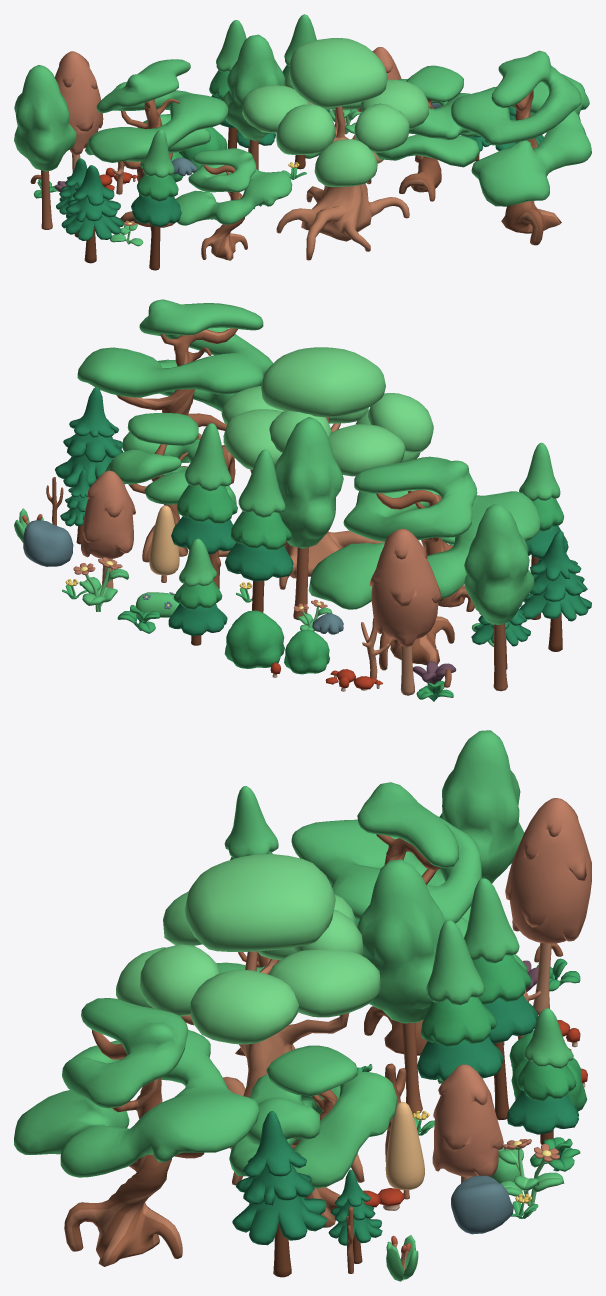
The model's file is customforestthird.gltf.
3 views of the same model, one above another, from view 1: azimuth 30°, elevation 25°; view 2: azimuth 150°, elevation 25°; view 3: azimuth 270°, elevation 25° (orthographic). The views are drawn at different scales.
Parts seen in each view (by area): view 1: TreeGiant_B_01_LOD1_Mat_Nature_0.001, TreeGiant_A_02_LOD1_Mat_Nature_0.005, TreeGiant_A_02_LOD1_Mat_Nature_0.003, TreeGiant_A_02_LOD1_Mat_Nature_0.004, TreeGiant_A_01_LOD1_Mat_Nature_0.001, Tree_E_01_LOD1_Mat_Nature_0.001, Conifer_05_LOD1_Mat_Nature_0.001, Tree_E_01_LOD1_Mat_Nature_0.002, Pine_04_LOD1_Mat_Nature_0.001, Tree_F_01_LOD1_Mat_Nature_0.001, Conifer_04_LOD1_Mat_Nature_0.001, Conifer_04_LOD1_Mat_Nature_0.002 (+5 smaller); view 2: TreeGiant_B_01_LOD1_Mat_Nature_0.001, TreeGiant_A_02_LOD1_Mat_Nature_0.003, TreeGiant_A_02_LOD1_Mat_Nature_0.005, Tree_E_01_LOD1_Mat_Nature_0.002, Tree_E_01_LOD1_Mat_Nature_0.001, Tree_F_01_LOD1_Mat_Nature_0.001, TreeGiant_A_01_LOD1_Mat_Nature_0.001, Conifer_04_LOD1_Mat_Nature_0.001, Conifer_04_LOD1_Mat_Nature_0.002, Pine_04_LOD1_Mat_Nature_0.001, Tree_F_03_LOD1_Mat_Nature_0.001, Conifer_03_LOD1_Mat_Nature_0.001 (+16 smaller); view 3: TreeGiant_B_01_LOD1_Mat_Nature_0.001, TreeGiant_A_02_LOD1_Mat_Nature_0.005, TreeGiant_A_02_LOD1_Mat_Nature_0.003, TreeGiant_A_01_LOD1_Mat_Nature_0.001, Tree_E_01_LOD1_Mat_Nature_0.002, Tree_F_01_LOD1_Mat_Nature_0.001, Conifer_04_LOD1_Mat_Nature_0.002, Tree_E_01_LOD1_Mat_Nature_0.001, Pine_05_LOD1_Mat_Nature_0.001, Conifer_04_LOD1_Mat_Nature_0.001, Tree_F_03_LOD1_Mat_Nature_0.001, Conifer_03_LOD1_Mat_Nature_0.001 (+8 smaller).
Boxes of the visible parts, x1,y1,x2,y2 form: TreeGiant_B_01_LOD1_Mat_Nature_0.001: (242,38,429,260); TreeGiant_A_02_LOD1_Mat_Nature_0.005: (451,50,591,245); TreeGiant_A_02_LOD1_Mat_Nature_0.003: (85,59,228,231); TreeGiant_A_02_LOD1_Mat_Nature_0.004: (175,148,292,260); TreeGiant_A_01_LOD1_Mat_Nature_0.001: (374,65,479,201); Tree_E_01_LOD1_Mat_Nature_0.001: (14,65,76,229); Conifer_05_LOD1_Mat_Nature_0.001: (131,129,181,270); Tree_E_01_LOD1_Mat_Nature_0.002: (221,34,285,169); Pine_04_LOD1_Mat_Nature_0.001: (61,165,124,263); Tree_F_01_LOD1_Mat_Nature_0.001: (54,51,103,172); Conifer_04_LOD1_Mat_Nature_0.001: (209,20,246,148); Conifer_04_LOD1_Mat_Nature_0.002: (282,14,329,169); TreeGiant_B_01_LOD1_Mat_Nature_0.001: (218,347,433,589); TreeGiant_A_02_LOD1_Mat_Nature_0.003: (308,456,540,670); TreeGiant_A_02_LOD1_Mat_Nature_0.005: (77,299,272,483); Tree_E_01_LOD1_Mat_Nature_0.002: (274,417,343,620); Tree_E_01_LOD1_Mat_Nature_0.001: (464,504,534,691); Tree_F_01_LOD1_Mat_Nature_0.001: (369,529,440,695); TreeGiant_A_01_LOD1_Mat_Nature_0.001: (105,413,236,562); Conifer_04_LOD1_Mat_Nature_0.001: (225,449,293,612); Conifer_04_LOD1_Mat_Nature_0.002: (171,423,237,558); Pine_04_LOD1_Mat_Nature_0.001: (519,531,591,651); Tree_F_03_LOD1_Mat_Nature_0.001: (81,470,135,588); Conifer_03_LOD1_Mat_Nature_0.001: (168,538,227,645); TreeGiant_B_01_LOD1_Mat_Nature_0.001: (116,854,380,1185); TreeGiant_A_02_LOD1_Mat_Nature_0.005: (14,998,259,1266); TreeGiant_A_02_LOD1_Mat_Nature_0.003: (291,782,527,1055); TreeGiant_A_01_LOD1_Mat_Nature_0.001: (229,1045,397,1227); Tree_E_01_LOD1_Mat_Nature_0.002: (357,859,445,1114); Tree_F_01_LOD1_Mat_Nature_0.001: (505,798,591,1015); Conifer_04_LOD1_Mat_Nature_0.002: (417,920,503,1081); Tree_E_01_LOD1_Mat_Nature_0.001: (439,730,524,883); Pine_05_LOD1_Mat_Nature_0.001: (232,1111,326,1277); Conifer_04_LOD1_Mat_Nature_0.001: (464,878,538,1120); Tree_F_03_LOD1_Mat_Nature_0.001: (432,1064,503,1182); Conifer_03_LOD1_Mat_Nature_0.001: (507,1008,578,1144).
Size of the model in its own units: 213 by 81.39 by 151.
Materials: 40 (40 with a texture image).
